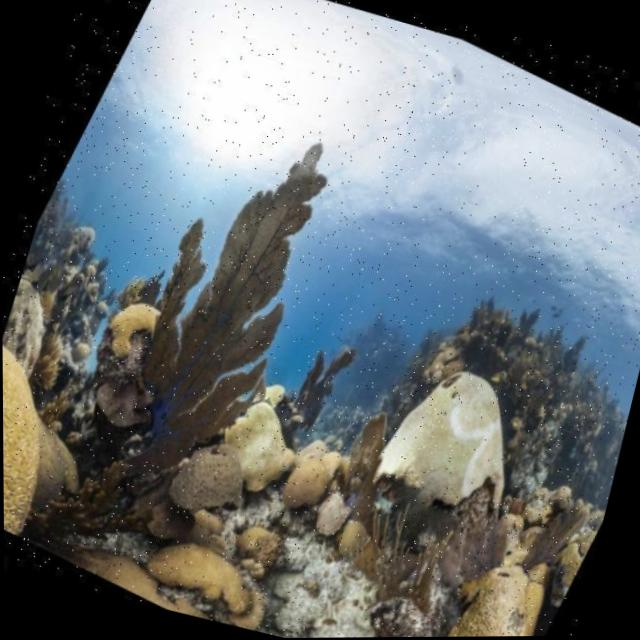Healthy Coral: (1, 180, 640, 640), (57, 79, 423, 542)
